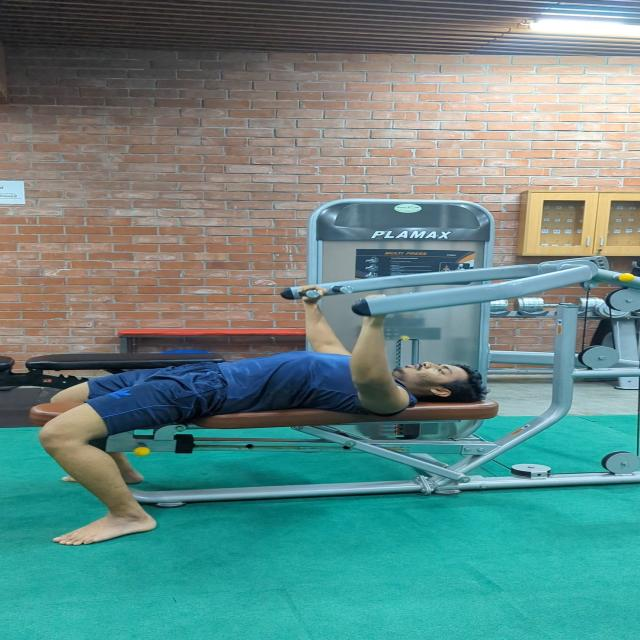Normal_BrenchPress: (29, 264, 496, 554)
